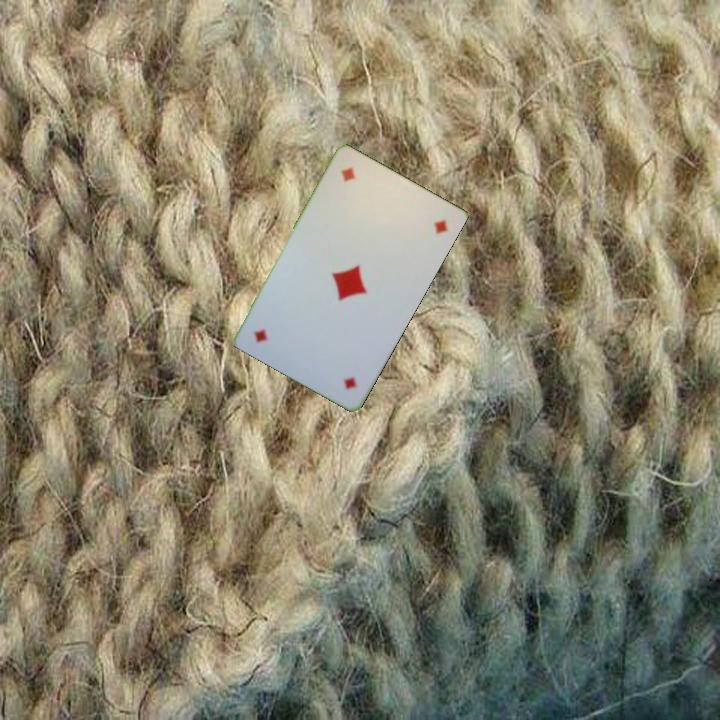d_a.png: (317, 155, 402, 237), (295, 319, 380, 400)
